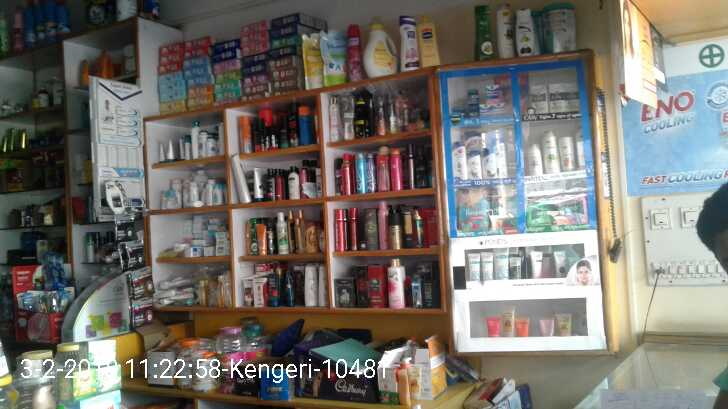beauty: (538, 131, 559, 175), (524, 83, 547, 116), (558, 135, 576, 173), (449, 140, 466, 179), (480, 147, 498, 179), (528, 141, 543, 177), (547, 84, 566, 112), (463, 150, 480, 180)
pharmacy: (456, 184, 489, 232), (554, 199, 588, 225), (528, 204, 556, 227), (484, 83, 499, 100), (466, 87, 480, 103), (494, 101, 507, 116), (479, 104, 492, 118)
